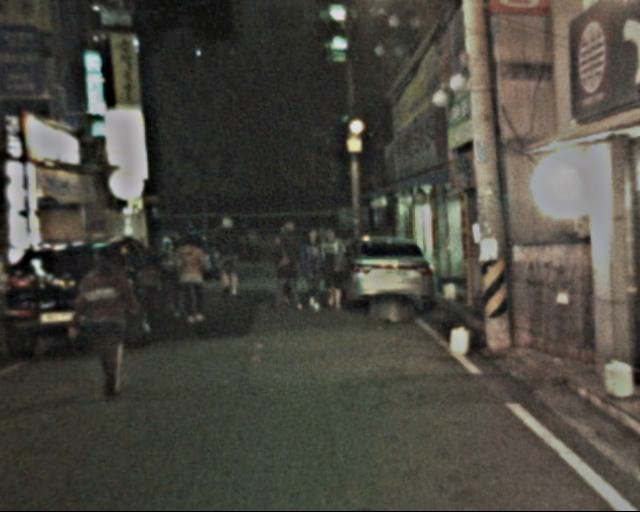person: (81, 245, 141, 390), (169, 234, 204, 319), (295, 229, 331, 310), (272, 219, 308, 291), (263, 235, 299, 306), (318, 229, 350, 307), (212, 220, 244, 295)
